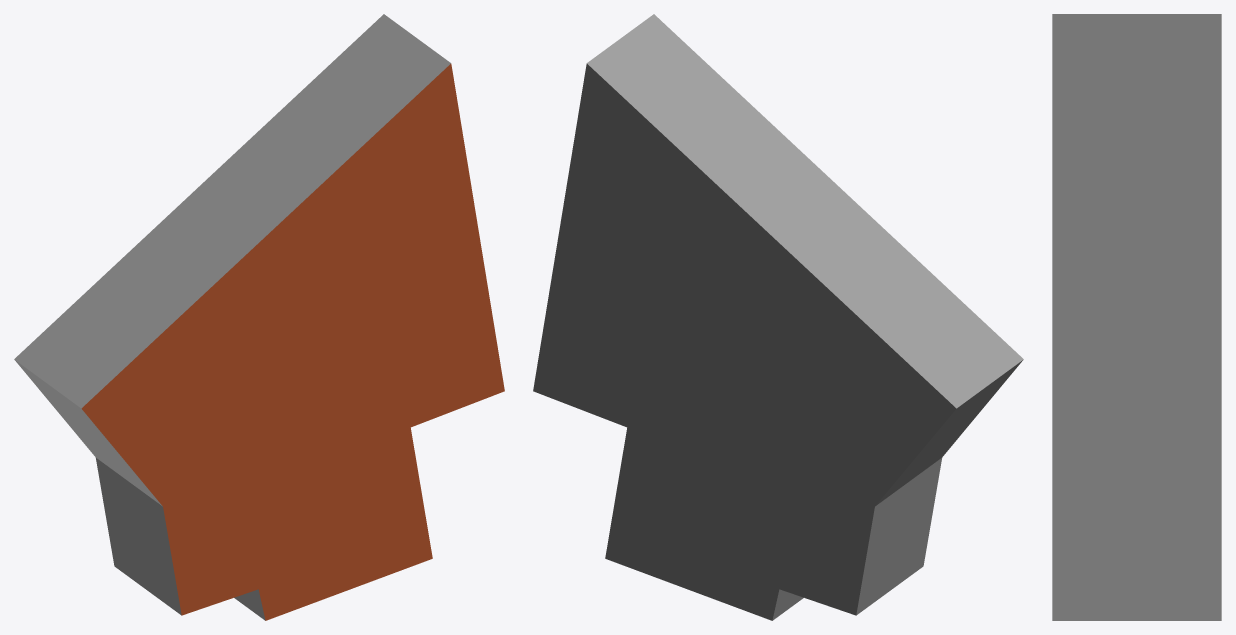
Rendered from construction_5650_assumed_A_Casa_h6m.obj.
3 views of the same model, side by side, from view 1: azimuth 30°, elevation 25°; view 2: azimuth 150°, elevation 25°; view 3: azimuth 270°, elevation 25° (orthographic). The views are drawn at different scales.
Visible parts, largest first — view 1: construction_5650_assumed_A_Casa; view 2: construction_5650_assumed_A_Casa; view 3: construction_5650_assumed_A_Casa.
Part boxes in pixels (left/top/right/bottom): construction_5650_assumed_A_Casa: left=14, top=14, right=504, bottom=620; construction_5650_assumed_A_Casa: left=533, top=14, right=1023, bottom=620; construction_5650_assumed_A_Casa: left=1052, top=14, right=1221, bottom=620.
Bounding box in the file's own units: 21.79 × 25.19 × 6.
